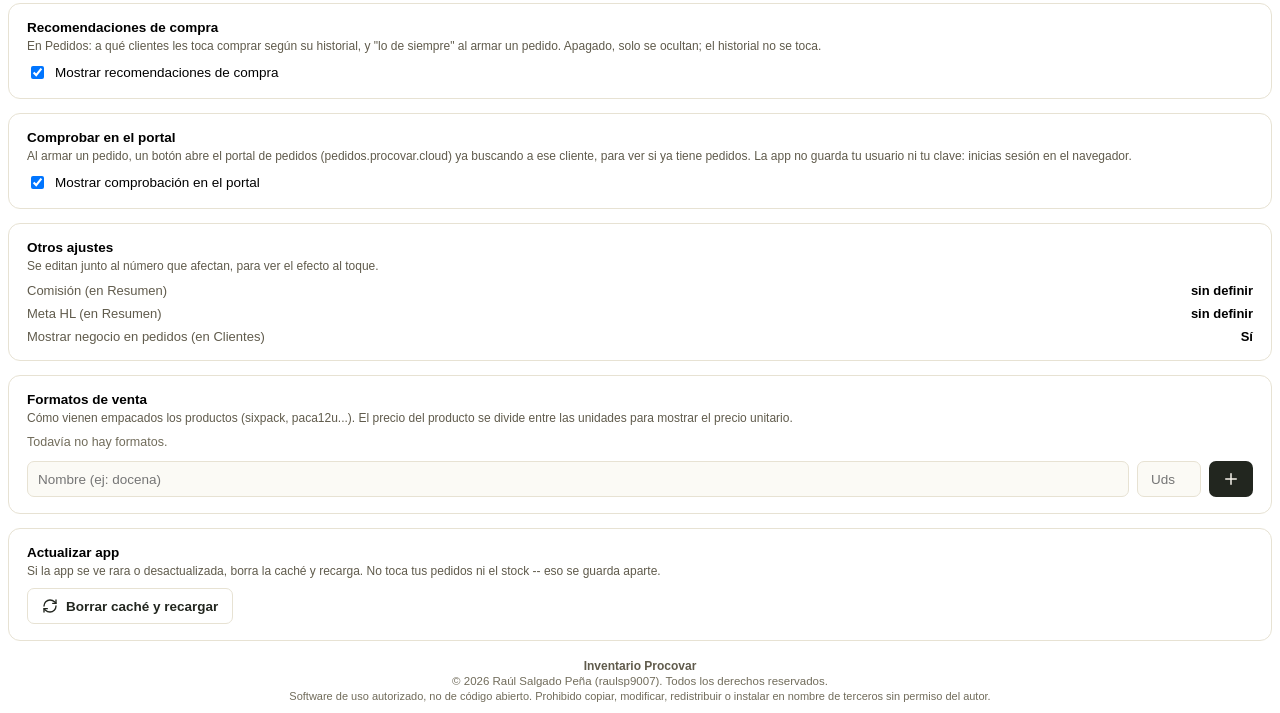
Test: Settings -- Borrar caché y recargar › sin conexión: no toca el service worker, no borra caché, no recarga, y avisa
The width and height of the screenshot is (1280, 713).
(page scrolled)
Click the button "Borrar caché y recargar": [130, 606] box [27, 588, 233, 624]
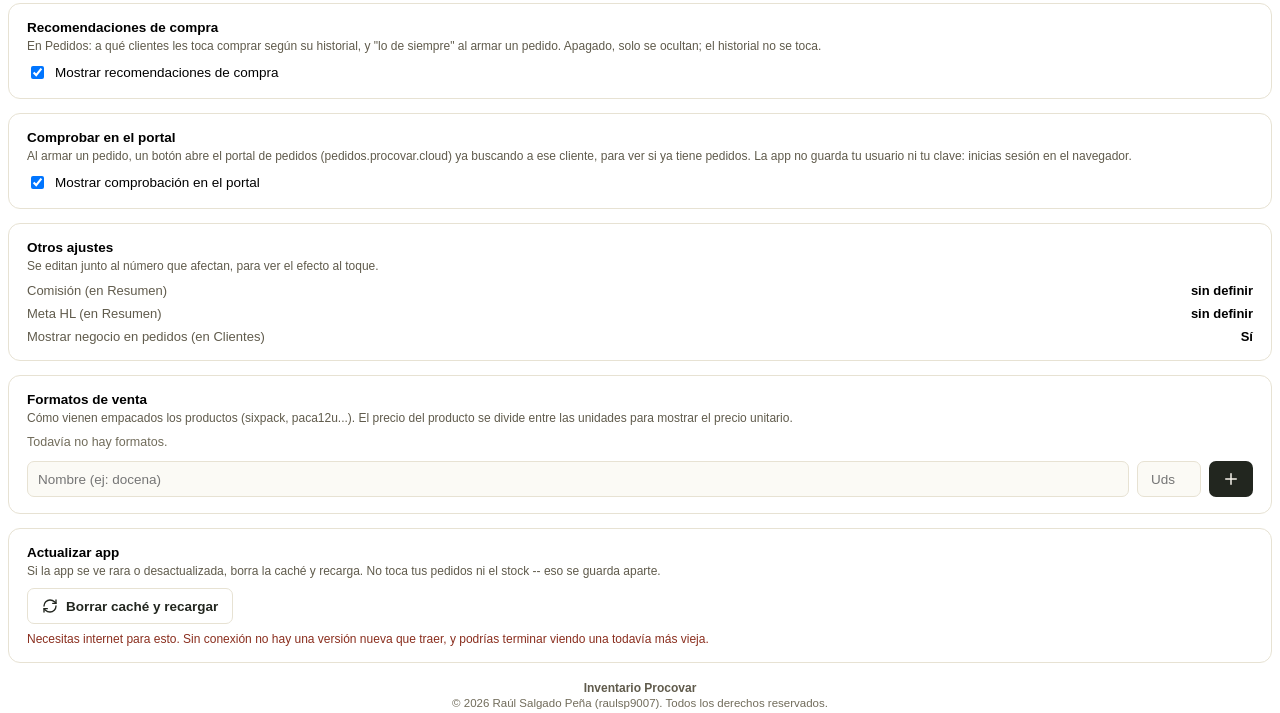
Expected: the text "Necesitas internet" is shown, [27, 632, 709, 646]
